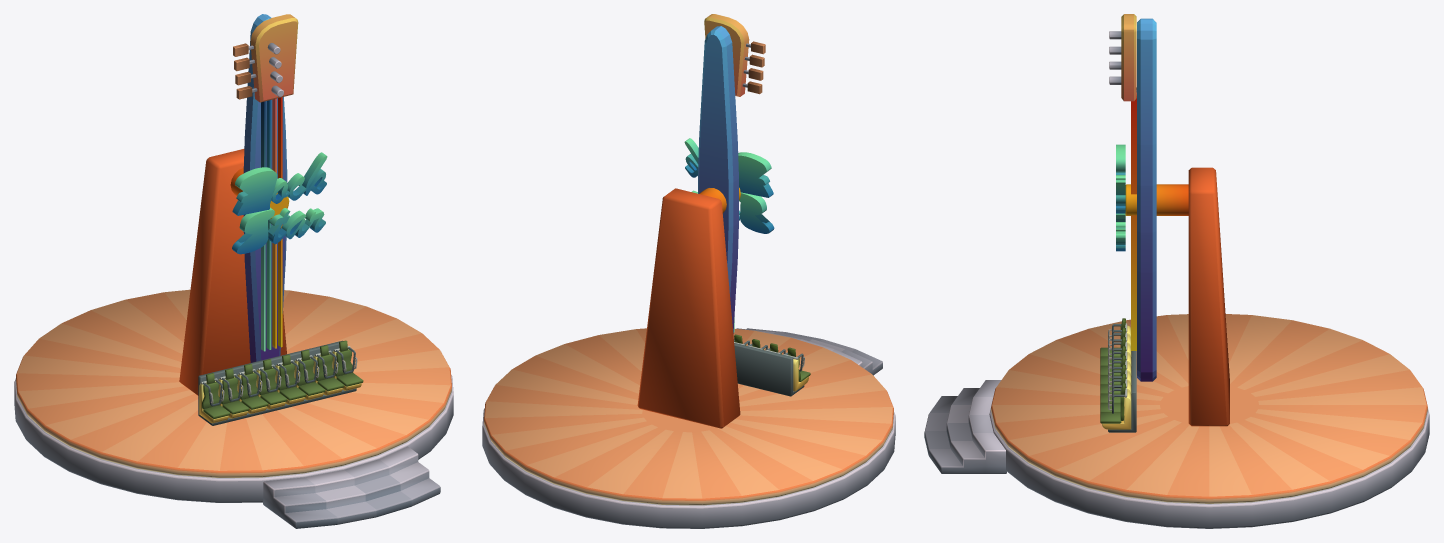
File: lpb_ride_rockstar.fbx
3 renders of one model, left to right at view 1: azimuth 30°, elevation 25°; view 2: azimuth 150°, elevation 25°; view 3: azimuth 270°, elevation 25°, orthographic. The views are drawn at different scales.
Parts seen in each view (by area): view 1: RockStar, rs_sup, rs_seat, rs_belt; view 2: RockStar, rs_sup, rs_seat; view 3: RockStar, rs_sup, rs_seat, rs_belt.
Part boxes in pixels (x1=…): RockStar: x1=14, y1=149, x2=453, y2=528; rs_sup: x1=230, y1=14, x2=327, y2=362; rs_seat: x1=198, y1=340, x2=363, y2=425; rs_belt: x1=201, y1=346, x2=357, y2=406; RockStar: x1=482, y1=188, x2=895, y2=528; rs_sup: x1=684, y1=14, x2=774, y2=333; rs_seat: x1=734, y1=334, x2=810, y2=396; RockStar: x1=924, y1=167, x2=1429, y2=528; rs_sup: x1=1109, y1=14, x2=1188, y2=381; rs_seat: x1=1100, y1=318, x2=1136, y2=432; rs_belt: x1=1108, y1=323, x2=1127, y2=413.
Size of the model in its own units: 9.94 by 10.53 by 11.41.
